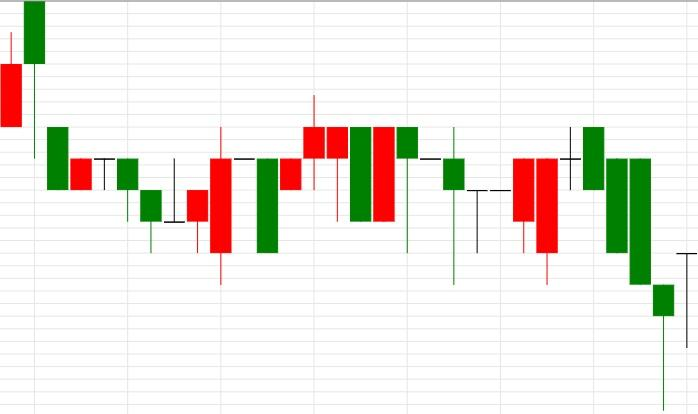bearish_engulfing_fall: (209, 95, 372, 285)
hammer_rise: (582, 126, 675, 411)
morning_star_rise: (24, 0, 209, 254)
